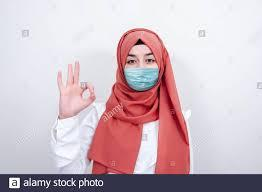Wearing Mask: (109, 24, 174, 92)
